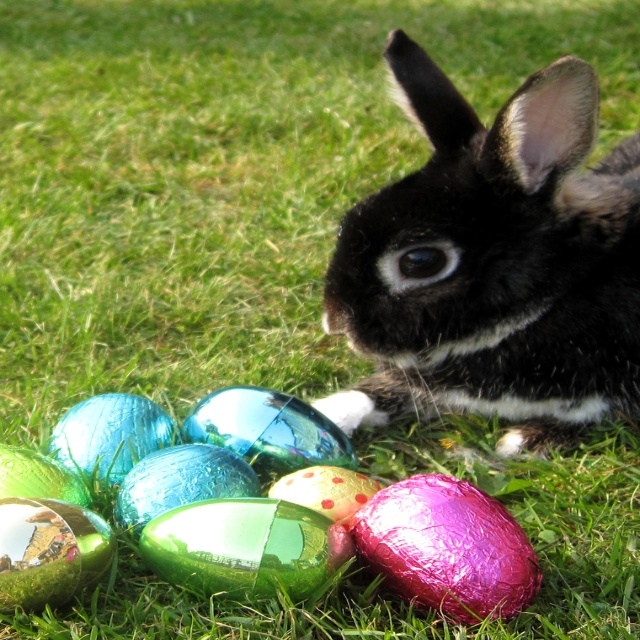Rabbit: (307, 29, 639, 458)
